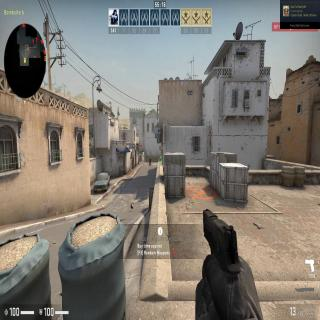CT-Body: (148, 156, 152, 165)
CT-Head: (150, 157, 150, 159)
